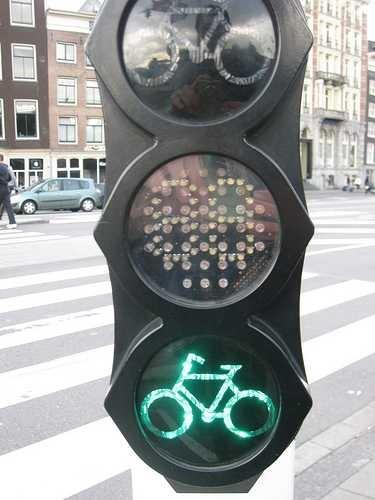green: (129, 326, 289, 479)
